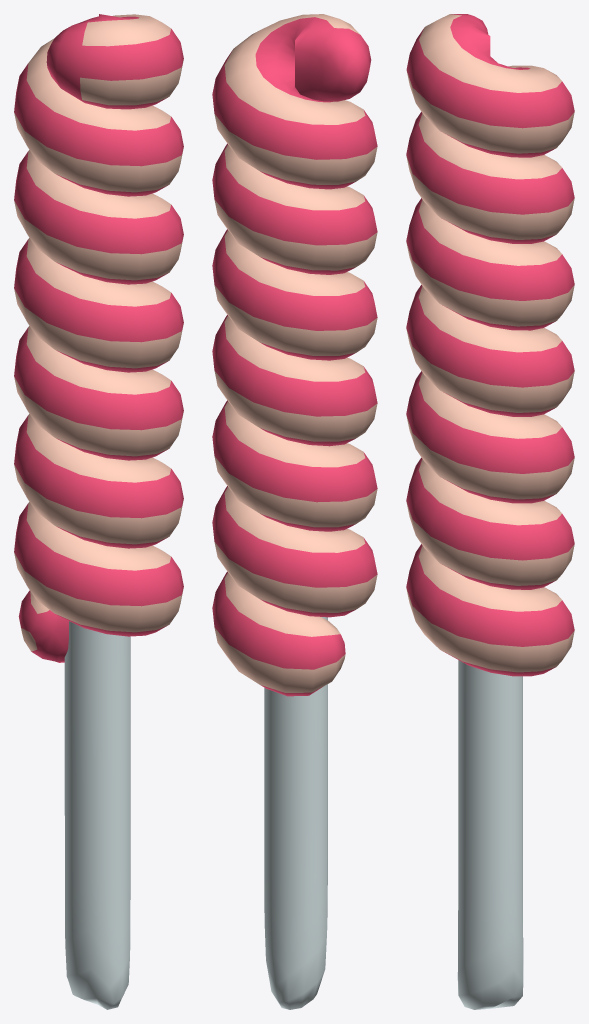
The model's file is Lollipop_D_02.fbx.
3 views of the same model, side by side, from view 1: azimuth 30°, elevation 25°; view 2: azimuth 150°, elevation 25°; view 3: azimuth 270°, elevation 25° (orthographic). The views are drawn at different scales.
Visible parts, largest first — view 1: Lollipop_D_02_LOD0; view 2: Lollipop_D_02_LOD0; view 3: Lollipop_D_02_LOD0.
Part boxes in pixels (x1,y1,x2,y2): Lollipop_D_02_LOD0: [14, 14, 183, 1009]; Lollipop_D_02_LOD0: [212, 14, 377, 1009]; Lollipop_D_02_LOD0: [406, 14, 574, 1009].
Size of what is drawn, in the model's own units: 191 by 1228 by 191.
